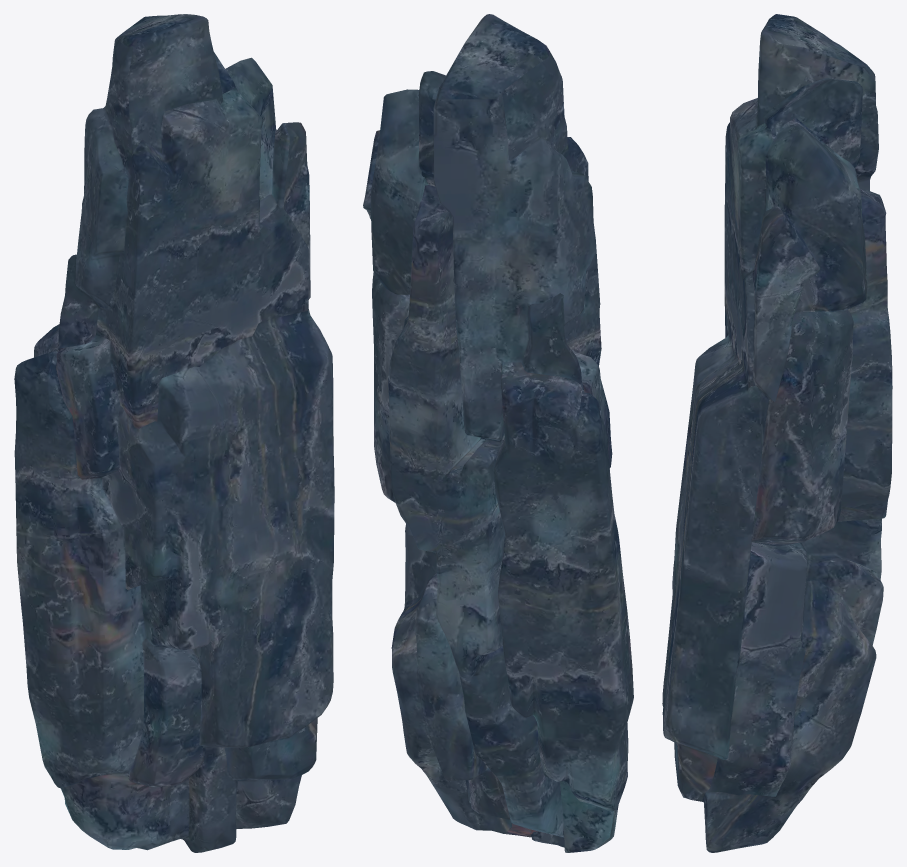
3 views of the same model, side by side, from view 1: azimuth 30°, elevation 25°; view 2: azimuth 150°, elevation 25°; view 3: azimuth 270°, elevation 25° (orthographic). The views are drawn at different scales.
Visible parts, largest first — view 1: SM_Cave_Rock_03_LOD0; view 2: SM_Cave_Rock_03_LOD0; view 3: SM_Cave_Rock_03_LOD0.
Boxes of the visible parts, x1,y1,x2,y2 form: SM_Cave_Rock_03_LOD0: (14,14,334,852); SM_Cave_Rock_03_LOD0: (363,14,633,852); SM_Cave_Rock_03_LOD0: (662,14,892,852).
Bounding box in the file's own units: 1.61 × 4.82 × 1.24.
Materials: 1 (1 with a texture image).
